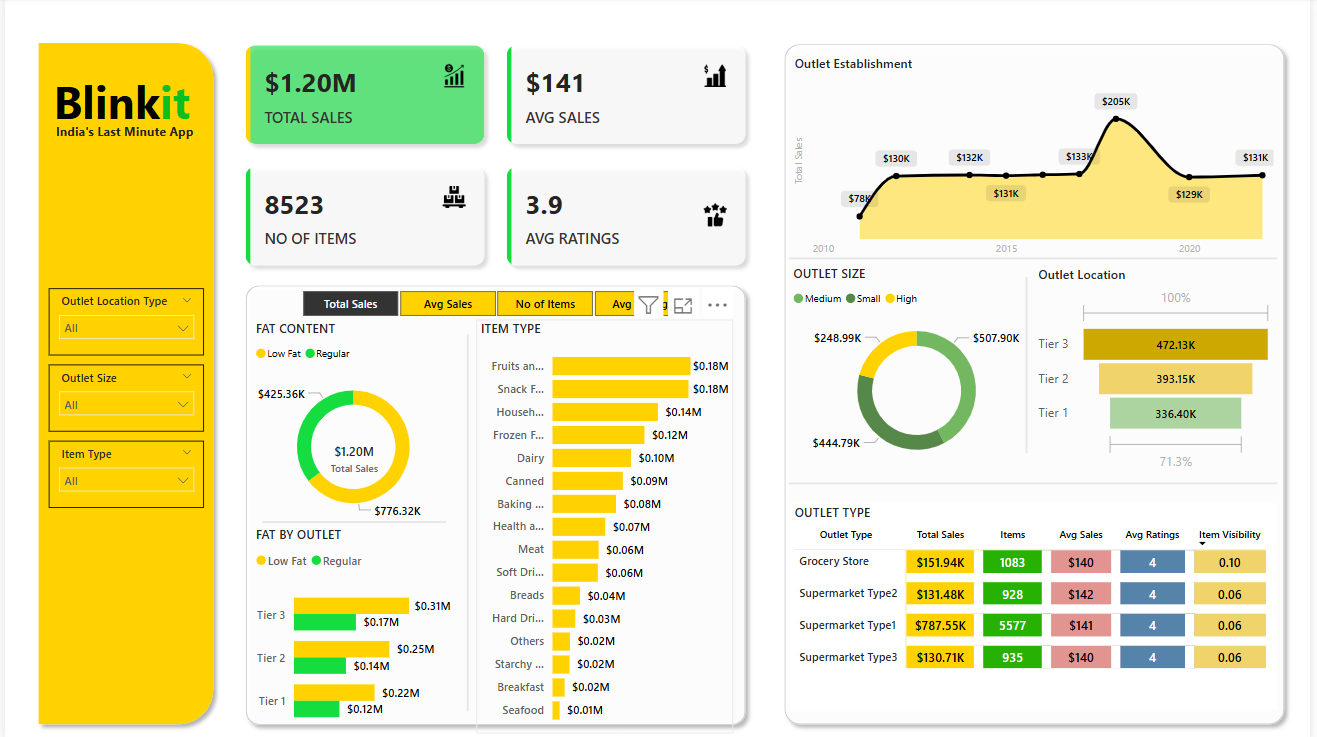

The page's visual inventory and layout, read from the dashboard file:
{"tool":"powerbi","page":{"name":"Page 1","canvas":[1400,800],"ordinal":0},"visuals":[{"type":"shape","box":[27,40.5,205.6,748.9],"z":0},{"type":"textbox","box":[46.5,73.5,166.6,76.5],"z":1000},{"type":"textbox","box":[49.5,130.6,184.6,30],"z":2000},{"type":"cardVisual","fields":{"Data":["BlinkIT Grocery Data.Total Sales","BlinkIT Grocery Data.Avg Sales","BlinkIT Grocery Data.No of Items","BlinkIT Grocery Data.Avg Ratings"]},"box":[241.6,34.5,570.3,270.2],"z":3000},{"type":"shape","box":[249.1,300.2,553.8,489.3],"z":4000},{"type":"donutChart","title":"FAT  CONTENT","fields":{"Y":["BlinkIT Grocery Data.Total Sales"],"Category":["BlinkIT Grocery Data.Item Fat Content"]},"box":[264.2,345.2,219.1,228.1],"z":5000},{"type":"slicer","fields":{"Values":["Metrics.Metrics"]},"box":[294.2,307.7,465.3,40.5],"z":6000},{"type":"cardVisual","fields":{"Data":["BlinkIT Grocery Data.Total Sales"]},"box":[319.7,460.8,111.1,57],"z":7000},{"type":"clusteredBarChart","title":"FAT BY OUTLET","fields":{"Y":["BlinkIT Grocery Data.Total Sales"],"Category":["BlinkIT Grocery Data.Outlet Location Type"],"Series":["BlinkIT Grocery Data.Item Fat Content"]},"box":[264.2,567.3,219.1,231.1],"z":8000},{"type":"shape","box":[276.2,531.3,196.6,64.5],"z":9000},{"type":"shape","box":[456.3,361.7,81,403.7],"z":10000},{"type":"barChart","title":"ITEM TYPE","fields":{"Y":["BlinkIT Grocery Data.Total Sales"],"Category":["BlinkIT Grocery Data.Item Type"]},"box":[505.8,345.2,276.2,444.3],"z":11000},{"type":"shape","box":[827,42,553.8,747.4],"z":12000},{"type":"lineChart","title":"Outlet Establishment ","fields":{"Y":["BlinkIT Grocery Data.Total Sales"],"Category":["BlinkIT Grocery Data.Outlet Establishment Year"]},"box":[842,61.5,523.8,225.1],"z":13000},{"type":"shape","box":[840.5,247.6,523.8,64.5],"z":14000},{"type":"donutChart","title":"OUTLET SIZE","fields":{"Y":["BlinkIT Grocery Data.Total Sales"],"Category":["BlinkIT Grocery Data.Outlet Size"]},"box":[840.5,286.7,274.7,225.1],"z":15000},{"type":"shape","box":[1055.1,300.2,81,189.1],"z":16000},{"type":"funnel","title":"Outlet Location","fields":{"Y":["Sum(BlinkIT Grocery Data.Sales)"],"Category":["BlinkIT Grocery Data.Outlet Location Type"]},"box":[1103.1,288.2,261.2,225.1],"z":17000},{"type":"shape","box":[840.5,489.3,523.8,64.5],"z":18000},{"type":"pivotTable","title":"OUTLET TYPE","fields":{"Values":["BlinkIT Grocery Data.Total Sales","BlinkIT Grocery Data.No of Items","BlinkIT Grocery Data.Avg Sales","BlinkIT Grocery Data.Avg Ratings","Avg(BlinkIT Grocery Data.Item Visibility)"],"Rows":["BlinkIT Grocery Data.Outlet Type"]},"box":[842,543.3,522.3,222.1],"z":19000},{"type":"slicer","fields":{"Values":["BlinkIT Grocery Data.Outlet Location Type"]},"box":[46.5,312.2,166.6,72],"z":20000},{"type":"slicer","fields":{"Values":["BlinkIT Grocery Data.Outlet Size"]},"box":[46.5,394.7,166.6,72],"z":21000},{"type":"slicer","fields":{"Values":["BlinkIT Grocery Data.Item Type"]},"box":[46.5,475.8,166.6,72],"z":22000}]}

Visuals, with their boxes in screenshot pixels (x1, y1, x2, y2), scaled from the page's 1400x800 canvas onto the 1317x737 screenshot:
shape: <box>25,37,219,727</box>
textbox: <box>44,68,200,138</box>
textbox: <box>47,120,220,148</box>
cardVisual - BlinkIT Grocery Data.Total Sales x BlinkIT Grocery Data.Avg Sales: <box>227,32,764,281</box>
shape: <box>234,277,755,727</box>
"FAT  CONTENT" donutChart: <box>249,318,455,528</box>
slicer - Metrics.Metrics: <box>277,283,714,321</box>
cardVisual - BlinkIT Grocery Data.Total Sales: <box>301,425,405,477</box>
"FAT BY OUTLET" clusteredBarChart: <box>249,523,455,736</box>
shape: <box>260,489,445,549</box>
shape: <box>429,333,505,705</box>
"ITEM TYPE" barChart: <box>476,318,736,727</box>
shape: <box>778,39,1299,727</box>
"Outlet Establishment " lineChart: <box>792,57,1285,264</box>
shape: <box>791,228,1283,288</box>
"OUTLET SIZE" donutChart: <box>791,264,1049,471</box>
shape: <box>993,277,1069,451</box>
"Outlet Location" funnel: <box>1038,266,1283,473</box>
shape: <box>791,451,1283,510</box>
"OUTLET TYPE" pivotTable: <box>792,501,1283,705</box>
slicer - BlinkIT Grocery Data.Outlet Location Type: <box>44,288,200,354</box>
slicer - BlinkIT Grocery Data.Outlet Size: <box>44,364,200,430</box>
slicer - BlinkIT Grocery Data.Item Type: <box>44,438,200,505</box>
